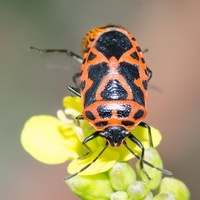insect: (21, 25, 170, 181)
